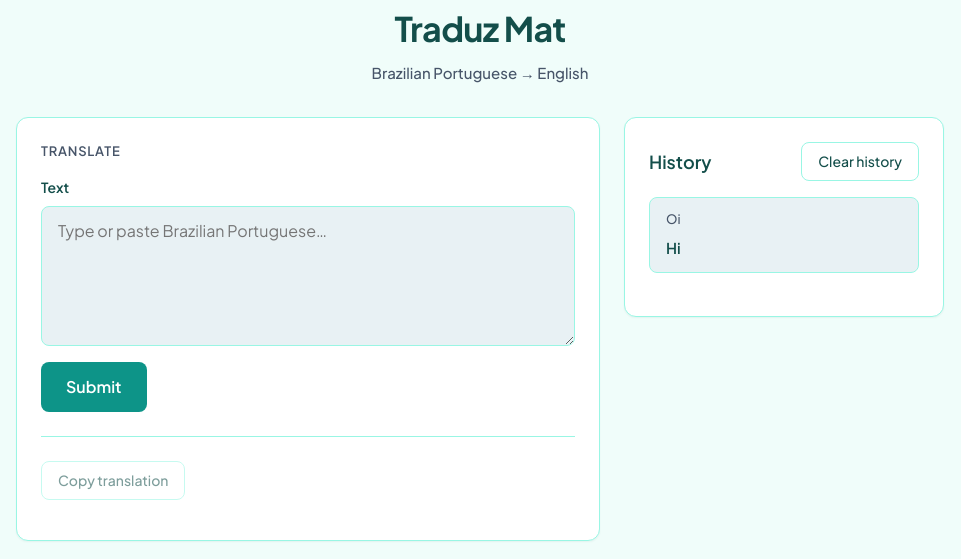
it: App › clears history when Clear history is clicked
What coordinates should you click on to do the following:
click the button "Clear history"
I would click on:
 (860, 161)
Its box is [801,142,919,180].
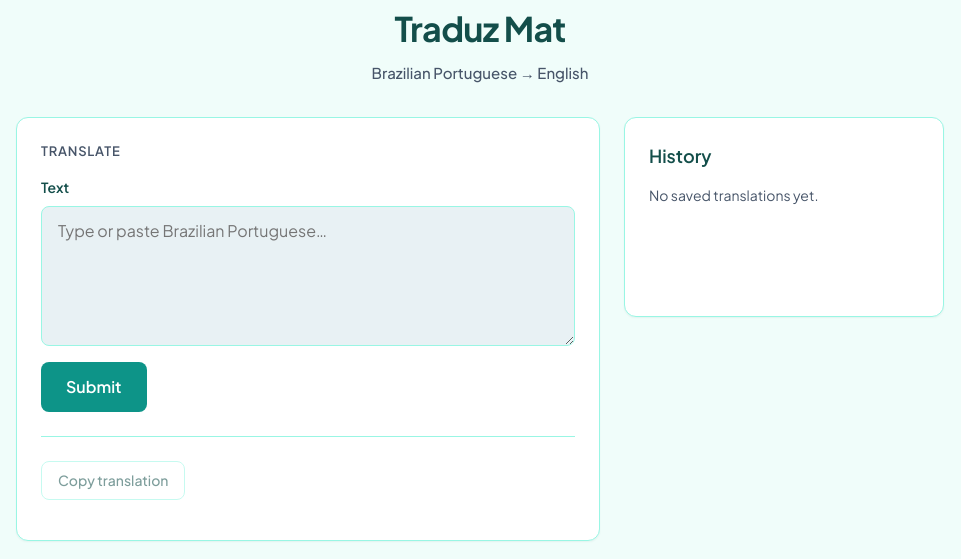
Check: the text "No saved translations yet." is shown, box [649,186,818,204]
